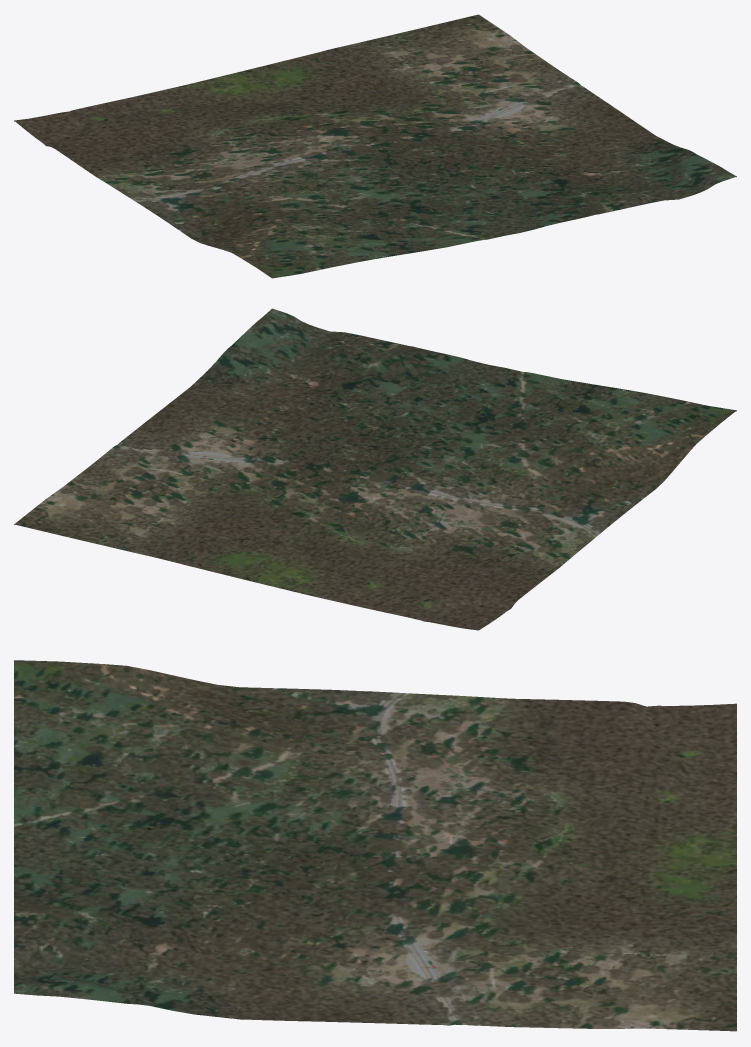
3 views of the same model, one above another, from view 1: azimuth 30°, elevation 25°; view 2: azimuth 150°, elevation 25°; view 3: azimuth 270°, elevation 25° (orthographic). The views are drawn at different scales.
Bounding box in the file's own units: 500 × 40.53 × 481.
Materials: 1 (1 with a texture image).
